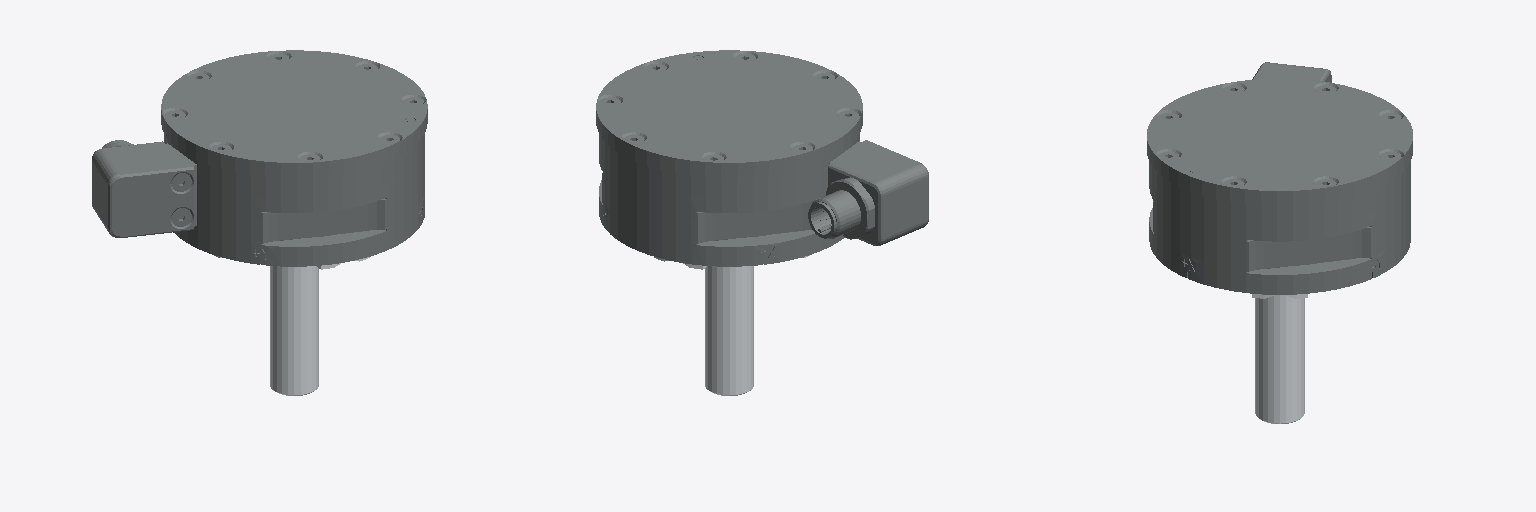
The model's file is assy_peg_FT.obj.
3 views of the same model, side by side, from view 1: azimuth 30°, elevation 25°; view 2: azimuth 150°, elevation 25°; view 3: azimuth 270°, elevation 25° (orthographic).
Visible parts, largest first — view 1: mesh 1 ATI-DEFAULT-1, mesh 2 2d_plug-1; view 2: mesh 1 ATI-DEFAULT-1, mesh 2 2d_plug-1; view 3: mesh 1 ATI-DEFAULT-1, mesh 2 2d_plug-1.
Part boxes in pixels (bbox=[...]): mesh 1 ATI-DEFAULT-1: bbox=[92, 50, 427, 266]; mesh 2 2d_plug-1: bbox=[214, 255, 369, 395]; mesh 1 ATI-DEFAULT-1: bbox=[596, 50, 928, 266]; mesh 2 2d_plug-1: bbox=[654, 255, 809, 395]; mesh 1 ATI-DEFAULT-1: bbox=[1147, 62, 1412, 294]; mesh 2 2d_plug-1: bbox=[1252, 294, 1307, 423].
Bounding box in the file's own units: 0.1006 × 0.0873 × 0.0754.